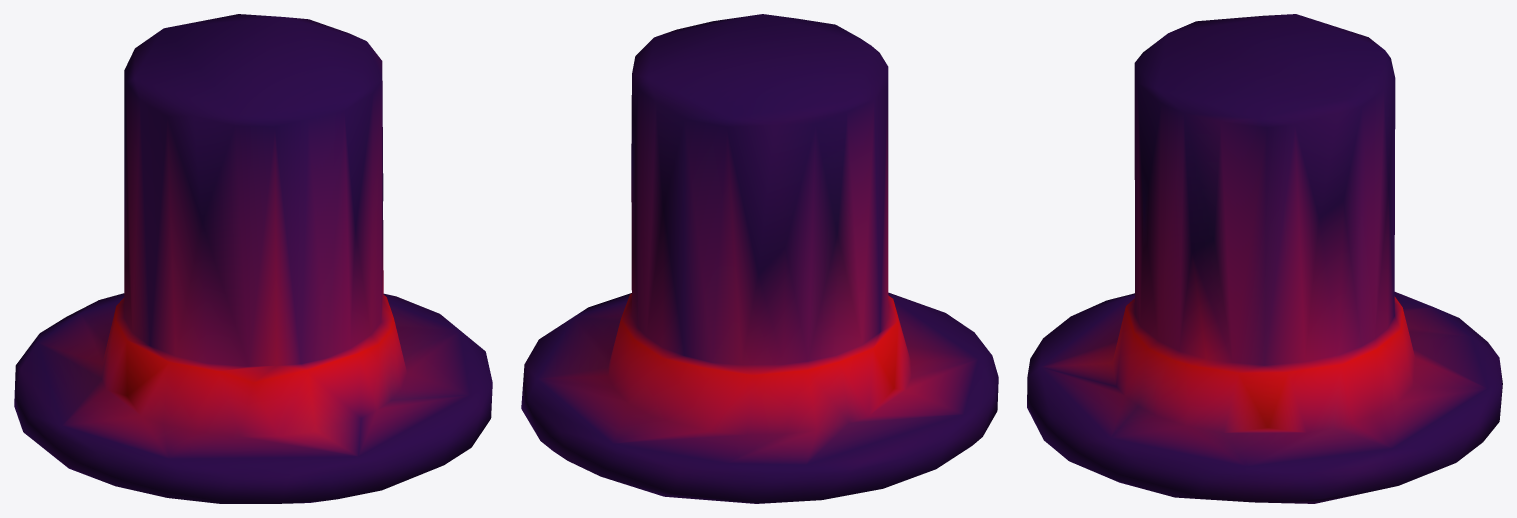
File: hat_tophat.glb
The picture shows the model from 3 angles, left to right: view 1: azimuth 30°, elevation 25°; view 2: azimuth 150°, elevation 25°; view 3: azimuth 270°, elevation 25°; orthographic projection.
Visible parts, largest first — view 1: geometry_0; view 2: geometry_0; view 3: geometry_0.
Part boxes in pixels (x1,y1,x2,y2): geometry_0: [14, 14, 492, 503]; geometry_0: [521, 14, 998, 503]; geometry_0: [1027, 14, 1502, 503].
Bounding box in the file's own units: 0.46 × 0.3686 × 0.4596.
